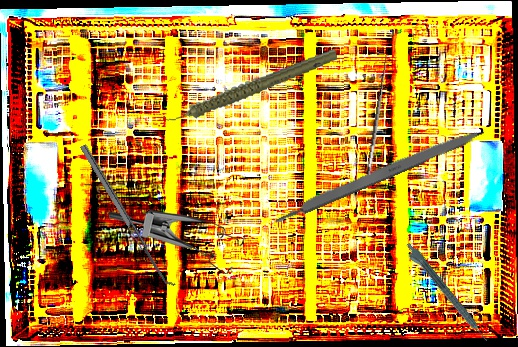Handpiece: (155, 47, 343, 125), (400, 241, 491, 347)
Hook Surgical: (357, 52, 391, 175)
Scalpel Handle: (269, 122, 488, 227)
Spatula Surgical: (79, 140, 178, 291)
Speculum: (108, 208, 246, 277)
